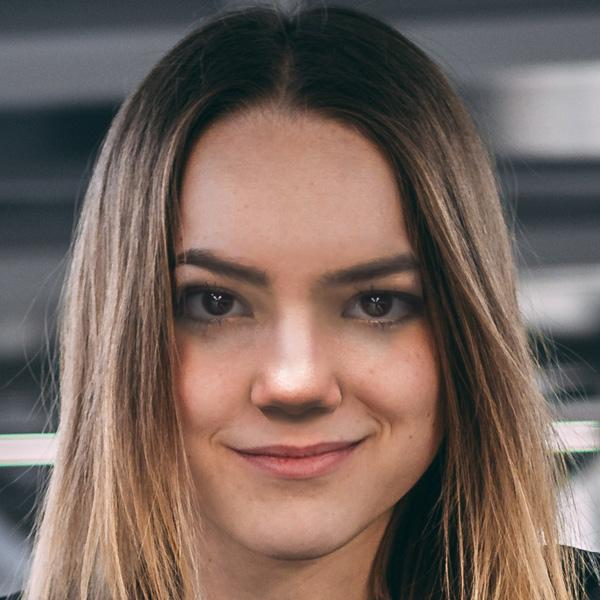Eyes: (333, 276, 429, 336), (166, 274, 259, 335)
